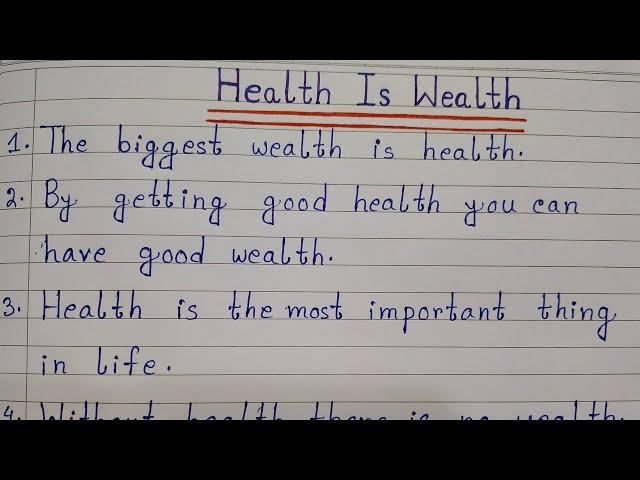text: (1, 288, 620, 345), (3, 174, 581, 231), (4, 122, 525, 172), (214, 64, 524, 113), (2, 398, 624, 422), (41, 230, 335, 280), (39, 344, 172, 379)
